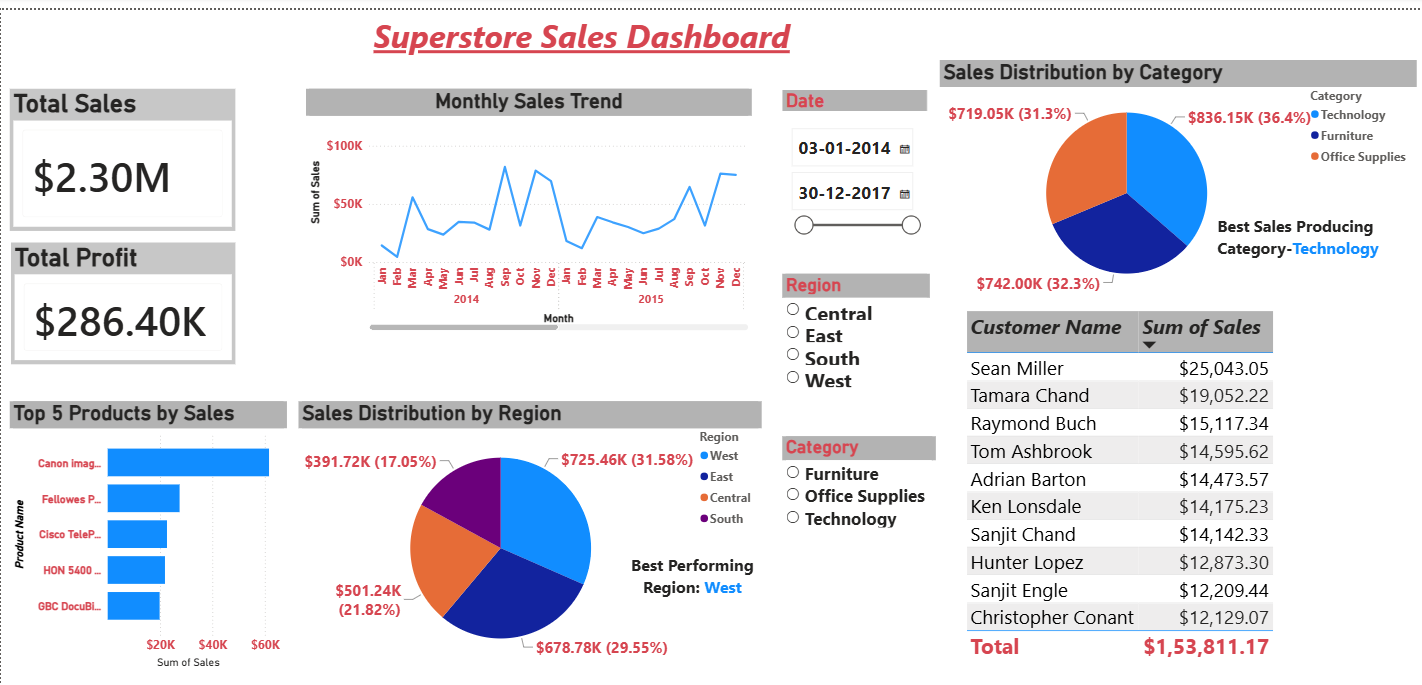

The page's visual inventory and layout, read from the dashboard file:
{"tool":"powerbi","page":{"name":"Superstore Sales Dashboard","canvas":[1900,900],"ordinal":0},"visuals":[{"type":"cardVisual","title":"Total Sales","fields":{"Data":["Sum(Sample - Superstore.Sales)"]},"box":[12.2,105.5,301.1,189.5],"z":1000},{"type":"cardVisual","title":"Total Profit","fields":{"Data":["Sum(Sample - Superstore.Profit)"]},"box":[13.8,310.3,299.6,162],"z":2000},{"type":"clusteredBarChart","title":"Top 5 Products by Sales","fields":{"Category":["Sample - Superstore.Product Name"],"Y":["Sum(Sample - Superstore.Sales)"]},"box":[12.2,521.2,369.9,360.7],"z":3000},{"type":"pieChart","title":"Sales Distribution by Region","fields":{"Y":["Sum(Sample - Superstore.Sales)"],"Category":["Sample - Superstore.Region"]},"box":[395.9,521.2,617.5,360.7],"z":4000},{"type":"lineChart","title":"Monthly Sales Trend","fields":{"Y":["Sum(Sample - Superstore.Sales)"],"Category":["Sample - Superstore.Year","Sample - Superstore.Month"]},"box":[406.6,105.5,594.6,327.1],"z":5000},{"type":"listSlicer","fields":{"Values":["Sample - Superstore.Region"]},"box":[1040.9,351.6,197.2,188],"z":6000},{"type":"listSlicer","fields":{"Values":["Sample - Superstore.Category"]},"box":[1040.9,568.6,204.8,192.6],"z":7000},{"type":"textbox","box":[804,719.9,236.9,82.5],"z":8000},{"type":"textbox","box":[212.5,0,1125,67.3],"z":9000},{"type":"slicer","title":"Date","fields":{"Values":["Sample - Superstore.Clean_Order_Date"]},"box":[1040.9,107,192.6,209.4],"z":10500},{"type":"pieChart","title":"Sales Distribution by Category","fields":{"Y":["Sum(Sample - Superstore.Sales)"],"Category":["Sample - Superstore.Category"]},"box":[1251.9,67.3,635.9,324.1],"z":10501},{"type":"tableEx","fields":{"Values":["Sample - Superstore.Customer Name","Sum(Sample - Superstore.Sales)"]},"box":[1282.4,395.9,597.7,486.1],"z":10502},{"type":"textbox","box":[1617.2,269,262.9,93.2],"z":10503}]}

Visuals, with their boxes in screenshot pixels (x1, y1, x2, y2), scaled from the page's 1900x900 canvas onto the 1422x685 screenshot:
"Total Sales" cardVisual: 9 80 234 225
"Total Profit" cardVisual: 10 236 235 359
"Top 5 Products by Sales" clusteredBarChart: 9 397 286 671
"Sales Distribution by Region" pieChart: 296 397 758 671
"Monthly Sales Trend" lineChart: 304 80 749 329
listSlicer - Sample - Superstore.Region: 779 268 927 411
listSlicer - Sample - Superstore.Category: 779 433 932 579
textbox: 602 548 779 611
textbox: 159 0 1001 51
"Date" slicer: 779 81 923 241
"Sales Distribution by Category" pieChart: 937 51 1413 298
tableEx - Sample - Superstore.Customer Name x Sum(Sample - Superstore.Sales): 960 301 1407 671
textbox: 1210 205 1407 276
